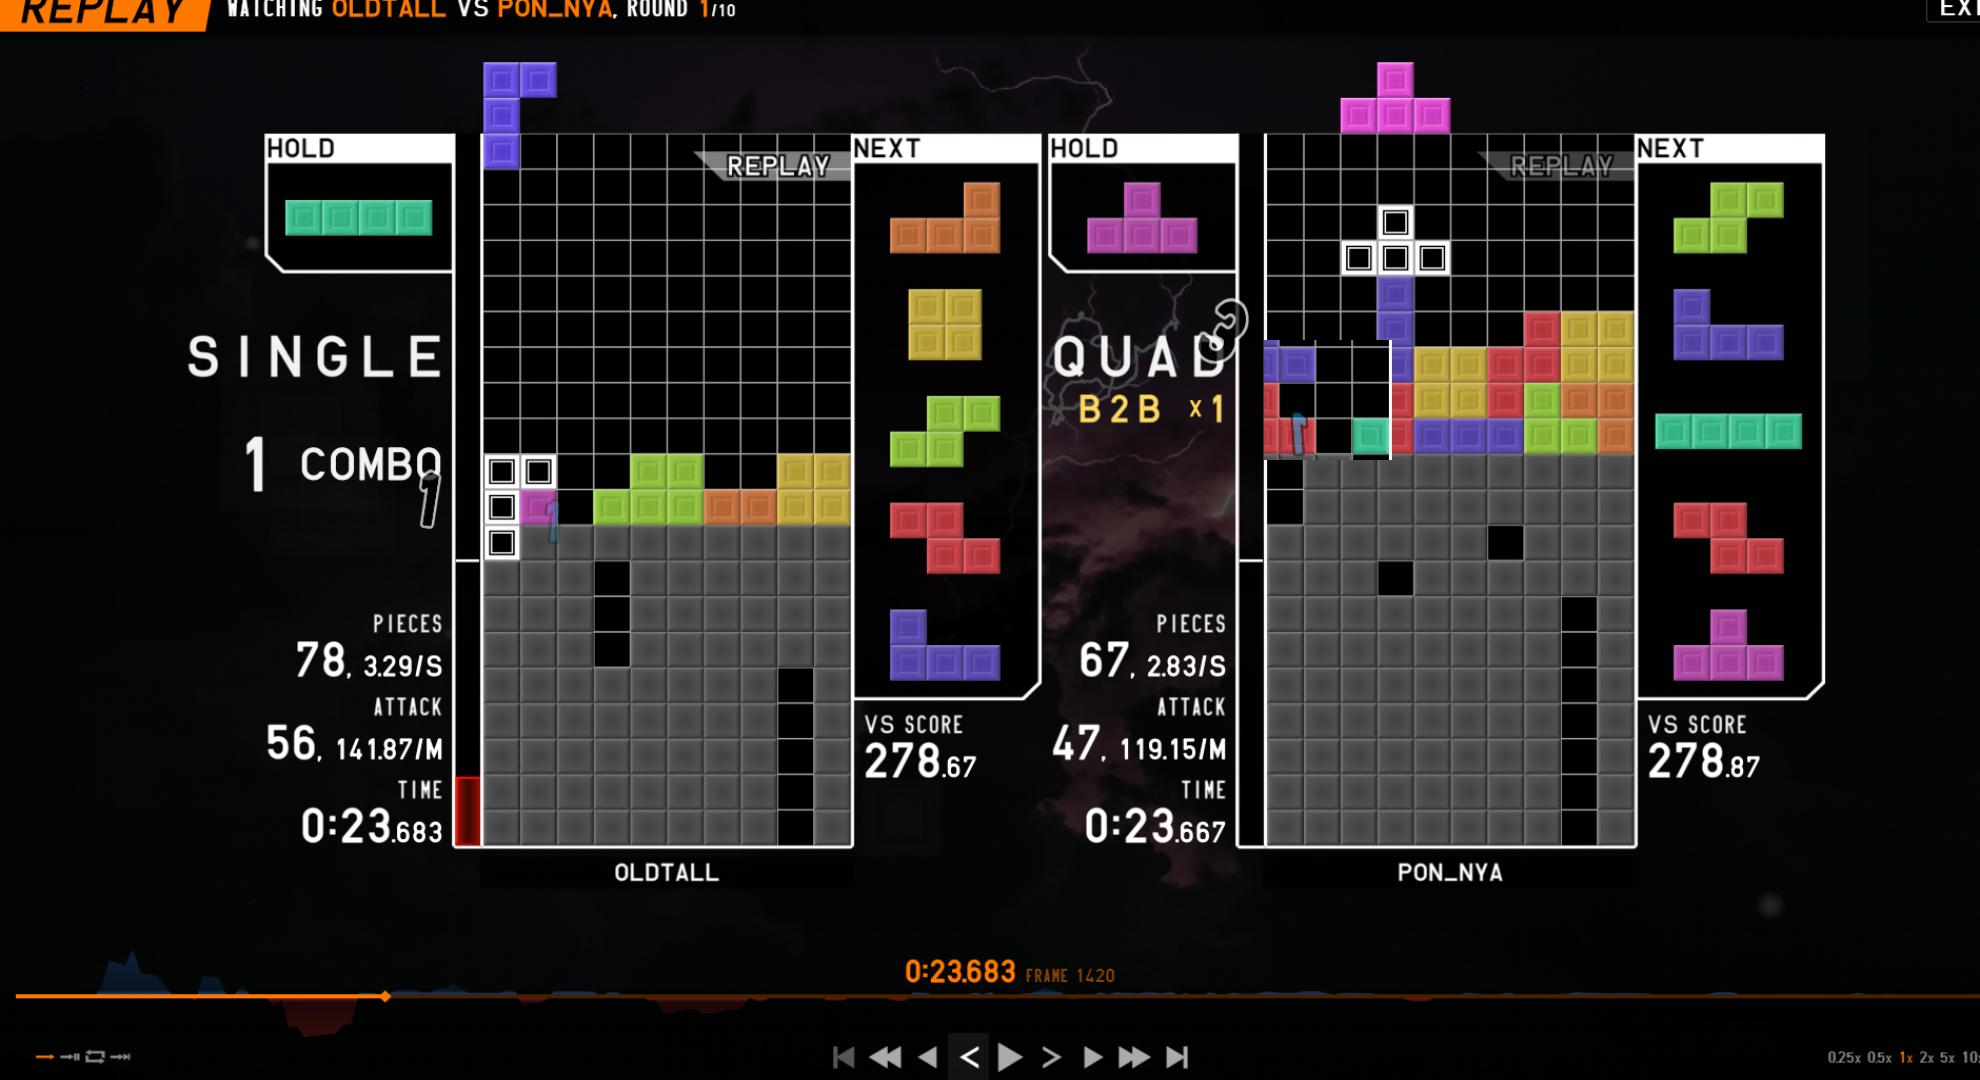tspin: (1265, 340, 1392, 460)
